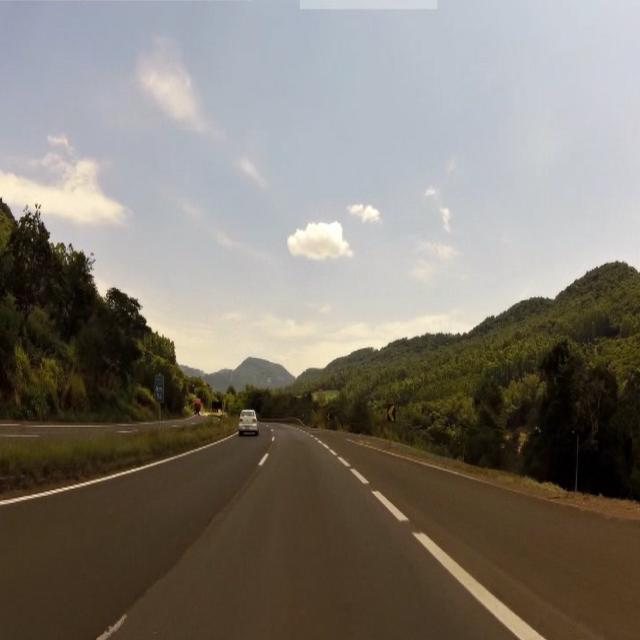Del: (387, 404, 397, 425), (327, 414, 332, 418)
RQ: (154, 373, 167, 411)
